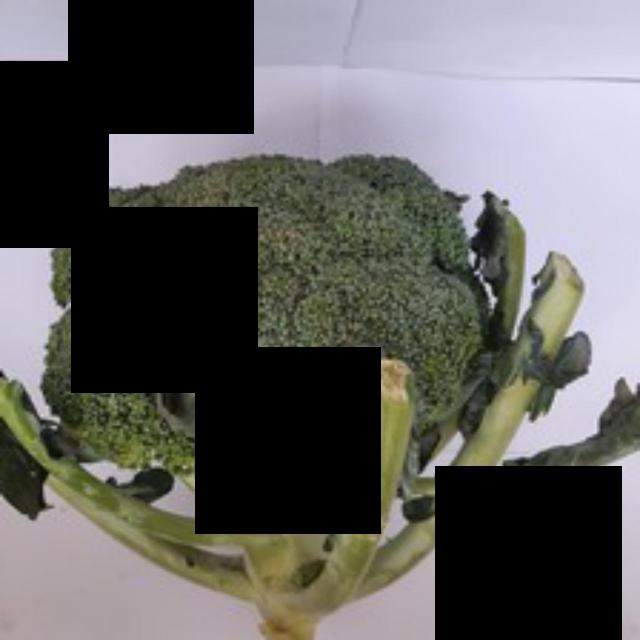broccoli: (41, 158, 525, 538)
